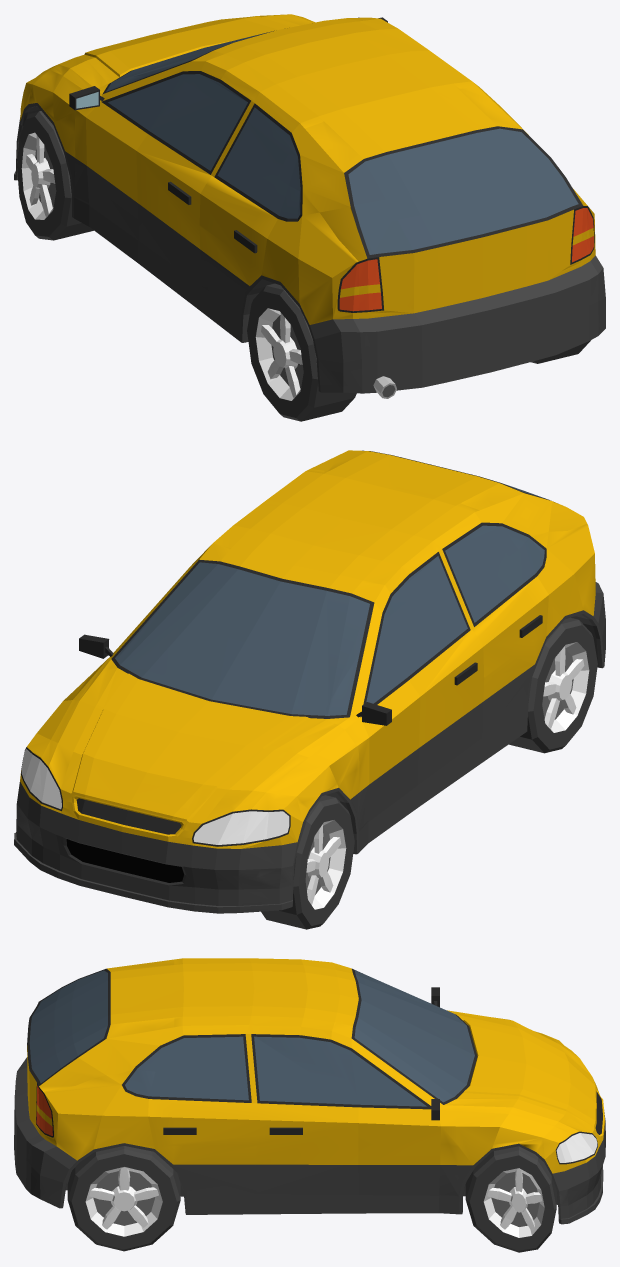
The model's file is crashed_hatchback_rear_hatch.glb.
3 views of the same model, one above another, from view 1: azimuth 30°, elevation 25°; view 2: azimuth 150°, elevation 25°; view 3: azimuth 270°, elevation 25° (orthographic). The views are drawn at different scales.
Parts seen in each view (by area): view 1: Hatchback Car_15, RearHatch, DriverDoor, Hatchback Car_15 BL Tire, Hatchback Car_15 FL Tire; view 2: Hatchback Car_15, DriverDoor, RearHatch, Hatchback Car_15 BL Tire, Hatchback Car_15 FL Tire; view 3: Hatchback Car_15, RearHatch, Hatchback Car_15 BR Tire, Hatchback Car_15 FR Tire.
Boxes of the visible parts, x1,y1,x2,y2 form: Hatchback Car_15: (14, 14, 605, 398); RearHatch: (277, 86, 587, 314); DriverDoor: (69, 73, 239, 287); Hatchback Car_15 BL Tire: (247, 283, 356, 421); Hatchback Car_15 FL Tire: (17, 111, 93, 240); Hatchback Car_15: (14, 469, 605, 913); DriverDoor: (321, 571, 484, 829); RearHatch: (310, 450, 586, 558); Hatchback Car_15 BL Tire: (509, 617, 597, 753); Hatchback Car_15 FL Tire: (261, 795, 354, 929); Hatchback Car_15: (14, 958, 605, 1224); RearHatch: (27, 959, 174, 1133); Hatchback Car_15 BR Tire: (67, 1146, 180, 1251); Hatchback Car_15 FR Tire: (465, 1146, 556, 1252).
Bounding box in the file's own units: 1.87 × 1.48 × 3.8.
2 materials, 2 textured.
